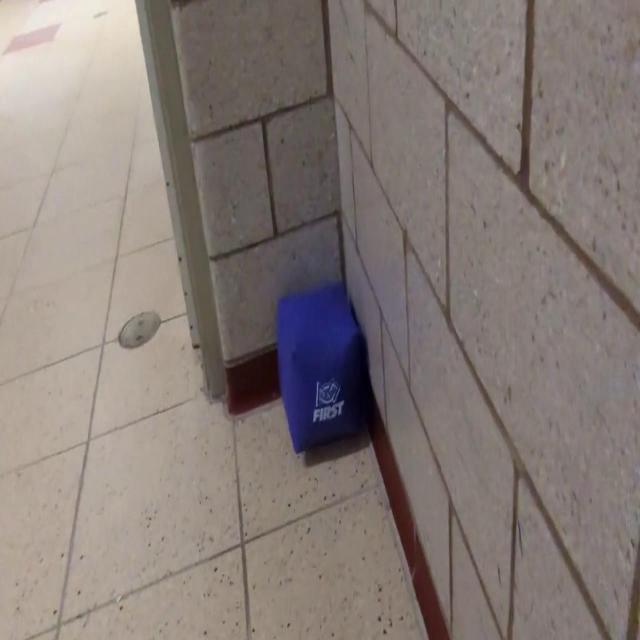frc_cube: (274, 285, 364, 455)
